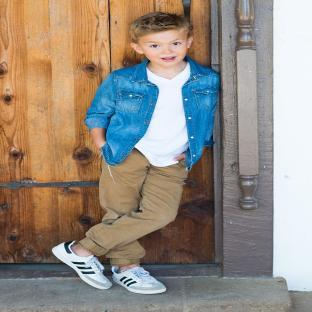Human: (53, 12, 219, 294)
